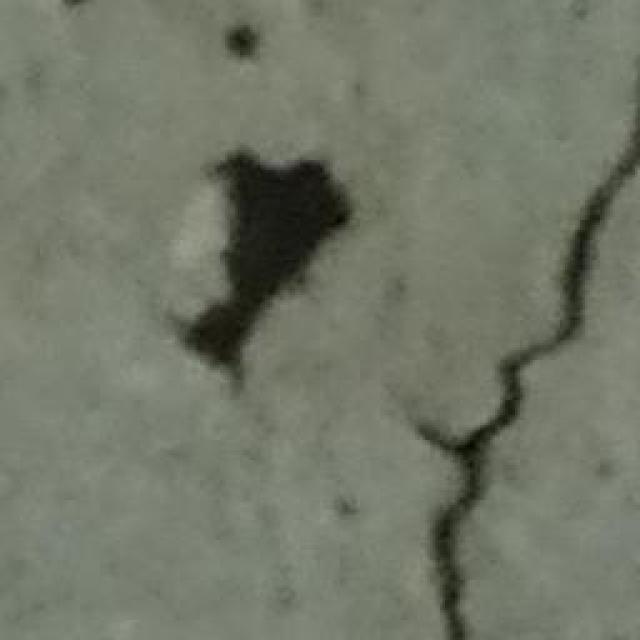Annular: (169, 105, 374, 406)
Radial: (414, 117, 640, 640)
